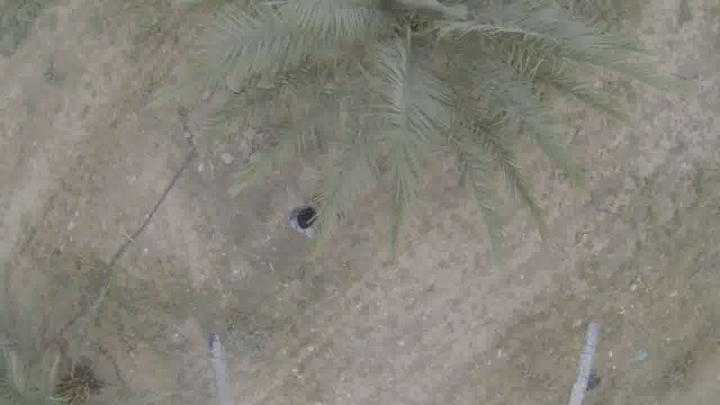Date-Palm-Crown: (249, 1, 587, 142), (0, 350, 72, 404)
